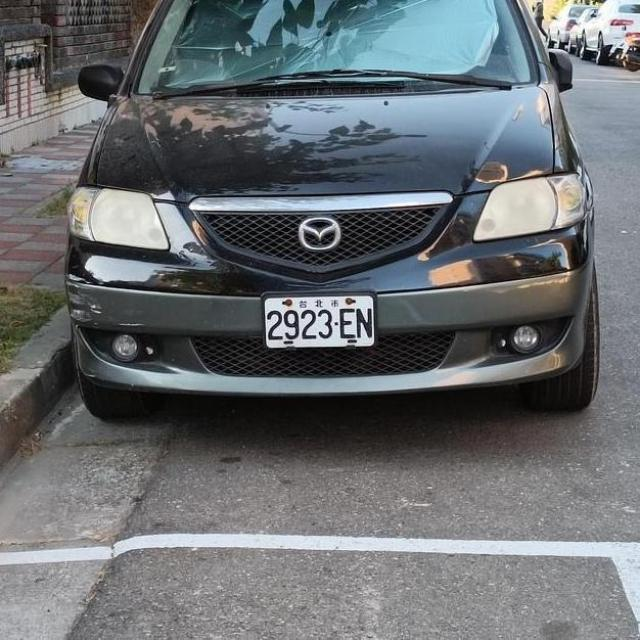W: (256, 289, 379, 354)
